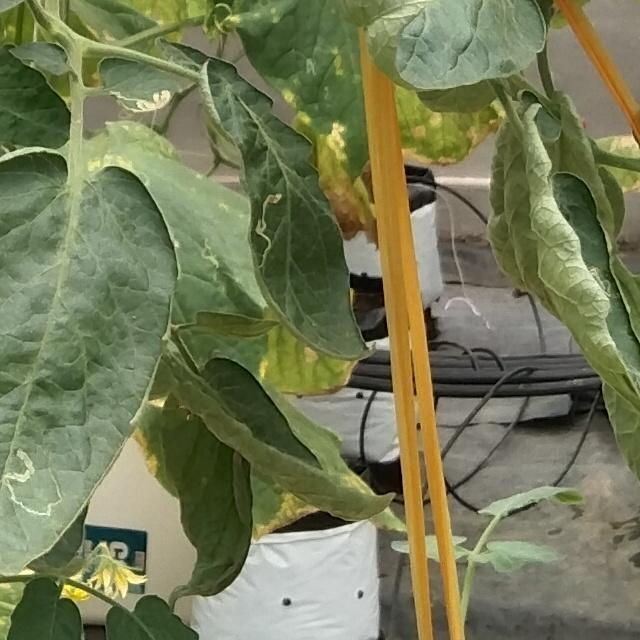Leaf_Miner: (0, 148, 178, 573), (206, 59, 379, 366), (99, 56, 196, 114)
